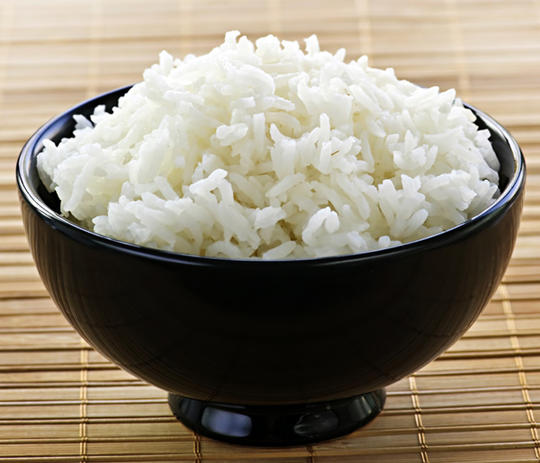Nasi Putih: (19, 55, 516, 262)
